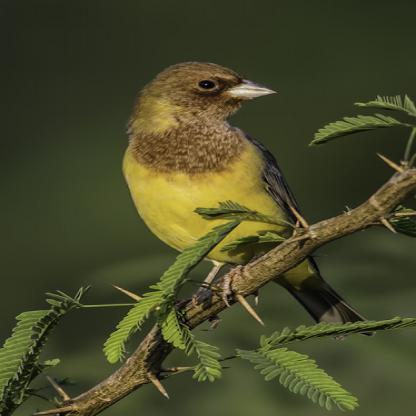Burung: (121, 61, 372, 339)
